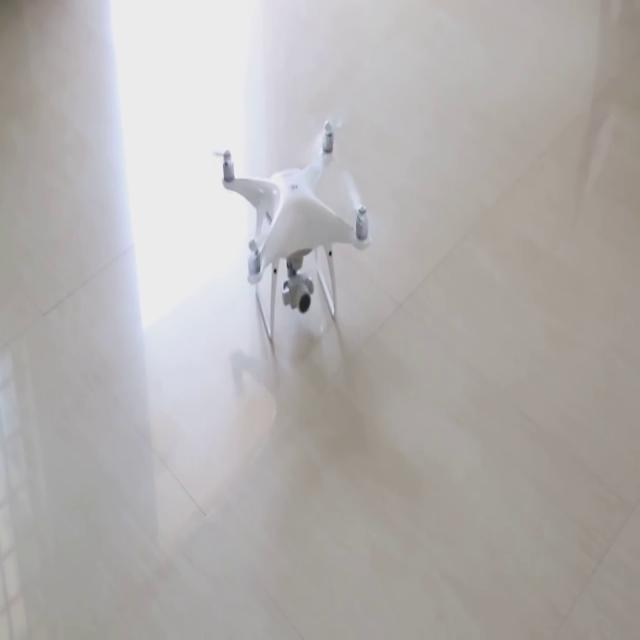drone: (213, 113, 391, 304)
